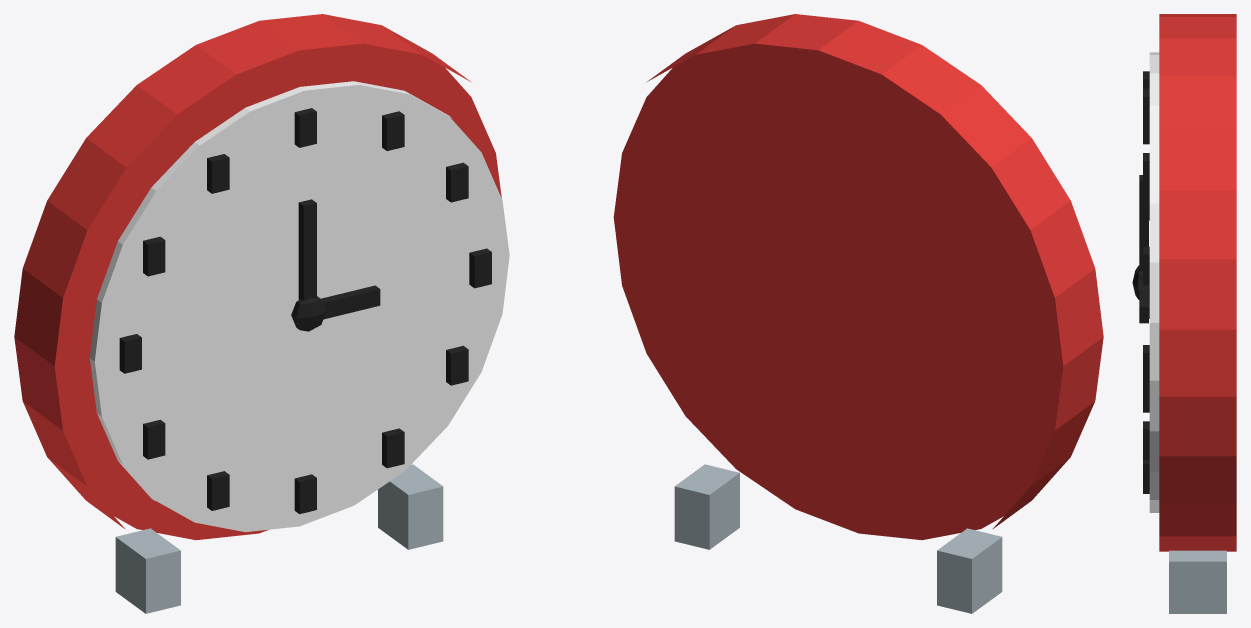
Rendered from vaggklocka.glb.
3 views of the same model, side by side, from view 1: azimuth 30°, elevation 25°; view 2: azimuth 150°, elevation 25°; view 3: azimuth 270°, elevation 25° (orthographic). The views are drawn at different scales.
Parts seen in each view (by area): view 1: vaggklocka; view 2: vaggklocka; view 3: vaggklocka.
Part boxes in pixels (x1,y1,x2,y2): vaggklocka: (14,14,509,613); vaggklocka: (613,14,1103,613); vaggklocka: (1132,14,1236,613).
Size of the model in its own units: 0.56 by 0.58 by 0.108.
